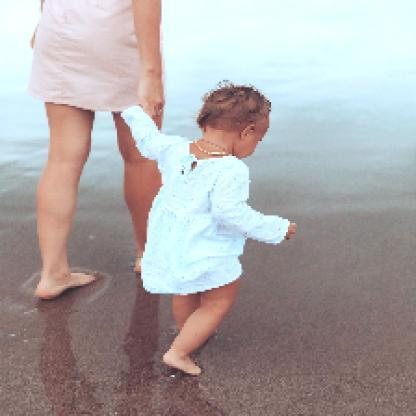child: (119, 86, 298, 376)
